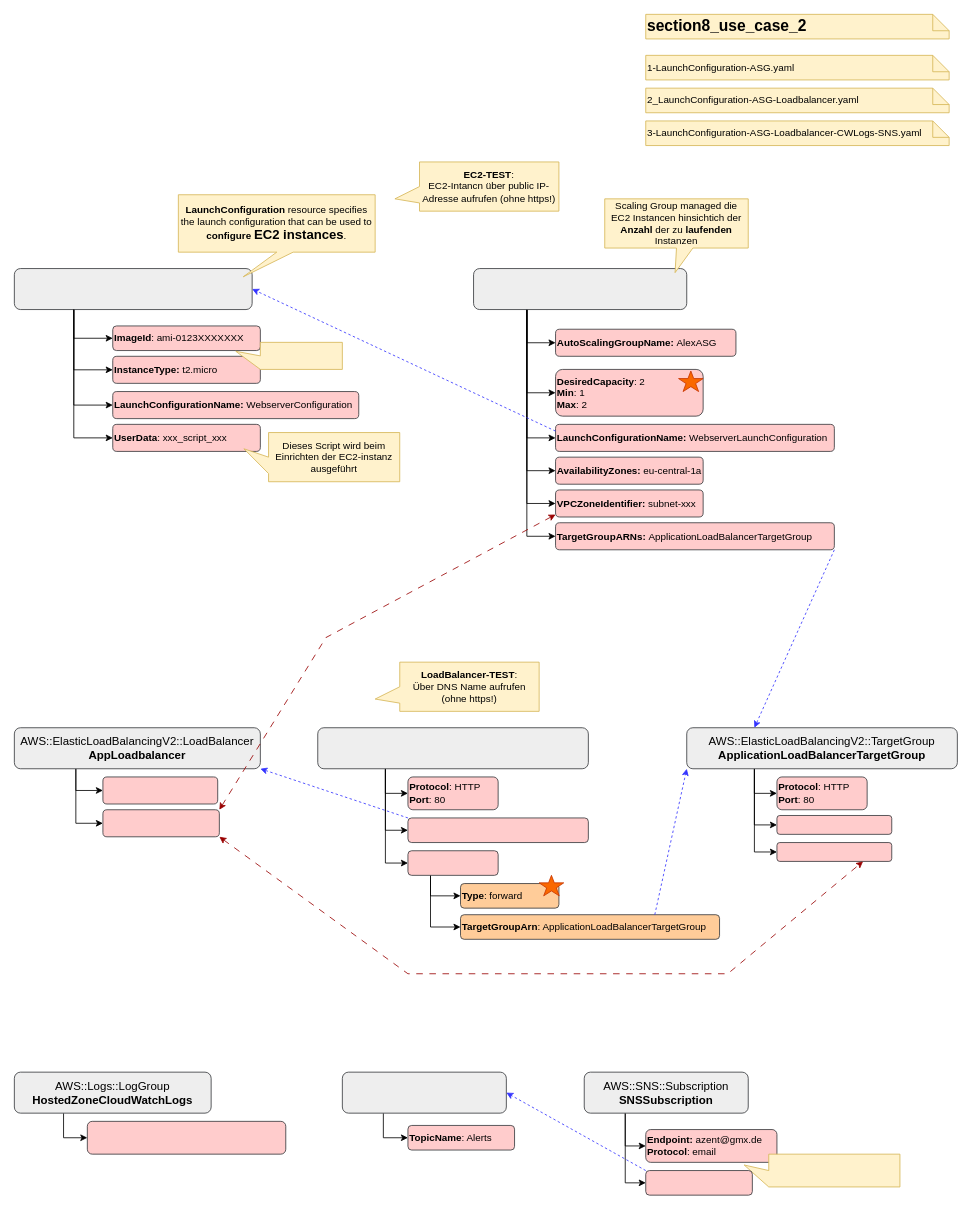
Image size: 972x1210. Some labels were removed from this diagram. Each missing label, with the box of its shape:
AWS::AutoScaling::AutoScalingGroup WebserverAutoScale: (473, 268, 687, 310)
AWS::AutoScaling::LaunchConfiguration WebserverLaunchConfiguration: (14, 268, 252, 310)
AWS::ElasticLoadBalancingV2::Listener ApplicationLoadBalancerListner: (317, 727, 588, 769)
AWS::SNS::Topic SNSTopic: (342, 1071, 506, 1113)
DefaultActions: (407, 850, 498, 875)
EC2-"Confg": (235, 342, 342, 369)
LoadBalancerArn : AppLoadbalancer: (407, 817, 588, 843)
LogGroupName : /aws/route53/webapp RetentionInDays : 1: (87, 1121, 286, 1154)
Subnets : subnet- xxx: (102, 809, 219, 837)
TargetType : instance: (776, 815, 892, 834)
TopicArn : SNSTopic: (645, 1170, 752, 1195)
Type : application: (102, 776, 218, 804)
Verschickt die eingehenden SNS-Events als Email: (743, 1153, 900, 1187)
VpcId : VPC-xxxxx: (776, 842, 892, 861)
